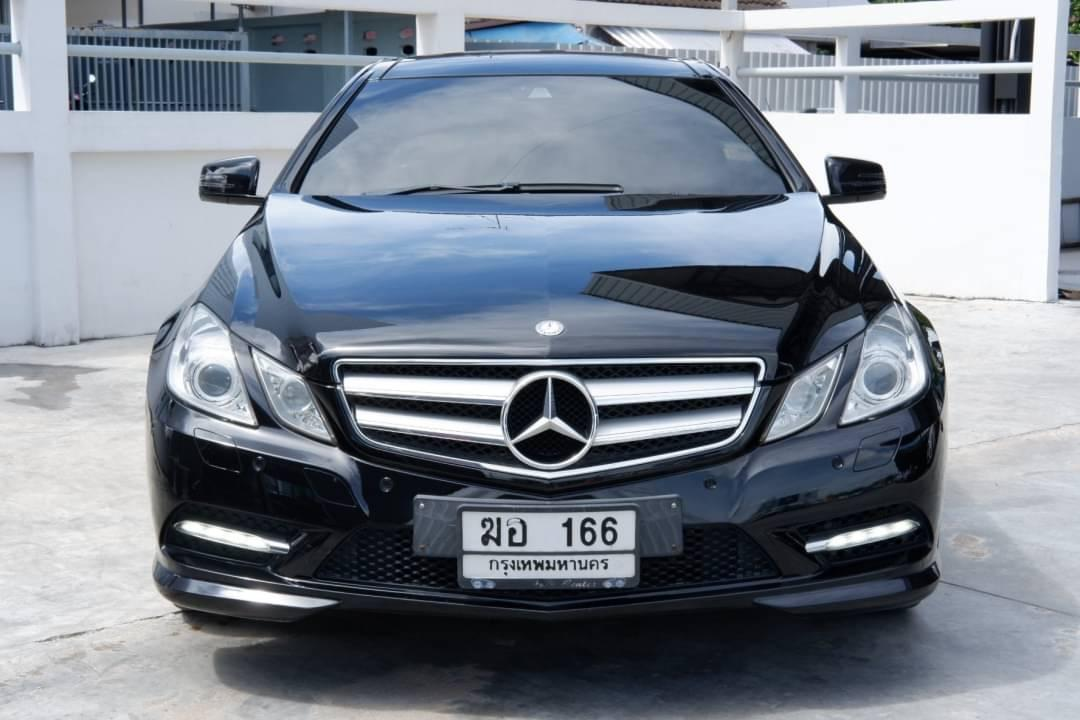license-plate: (456, 495, 651, 594)
